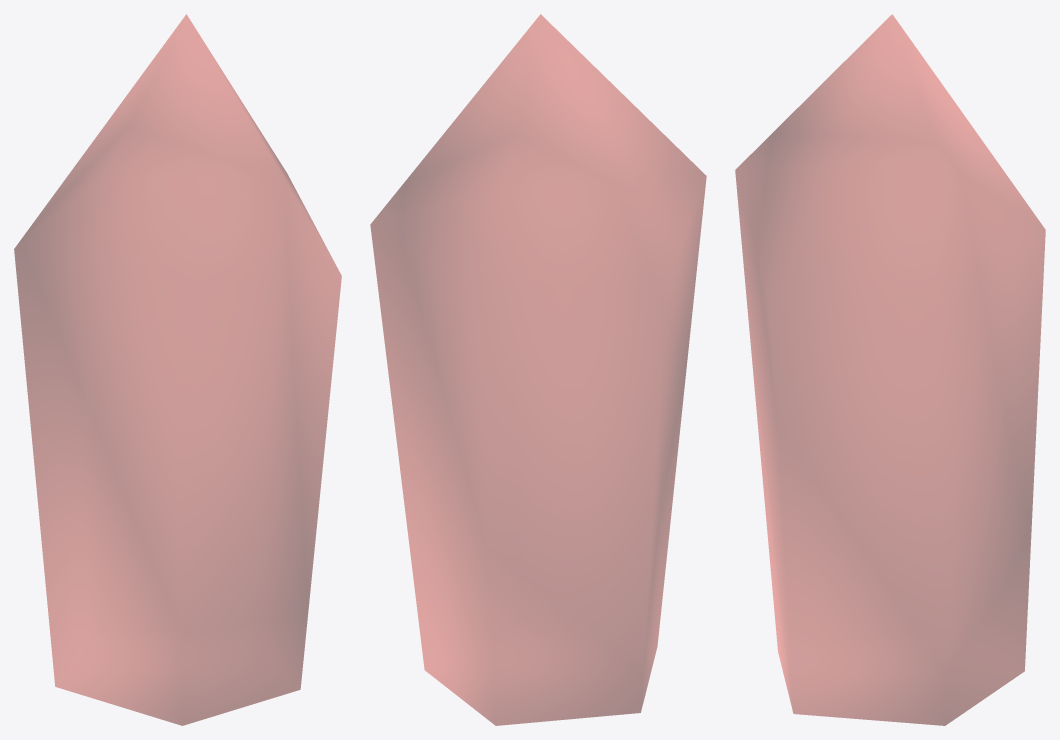
The model's file is Crystal1_Bogdan.fbx.
3 renders of one model, left to right at view 1: azimuth 30°, elevation 25°; view 2: azimuth 150°, elevation 25°; view 3: azimuth 270°, elevation 25°, orthographic.
Visible parts, largest first — view 1: Crystal1; view 2: Crystal1; view 3: Crystal1.
Part boxes in pixels (left/top/right/bottom): Crystal1: left=14, top=14, right=341, bottom=725; Crystal1: left=370, top=14, right=706, bottom=725; Crystal1: left=735, top=14, right=1045, bottom=725.
Size of the model in its own units: 33.1 by 73.23 by 30.89.
